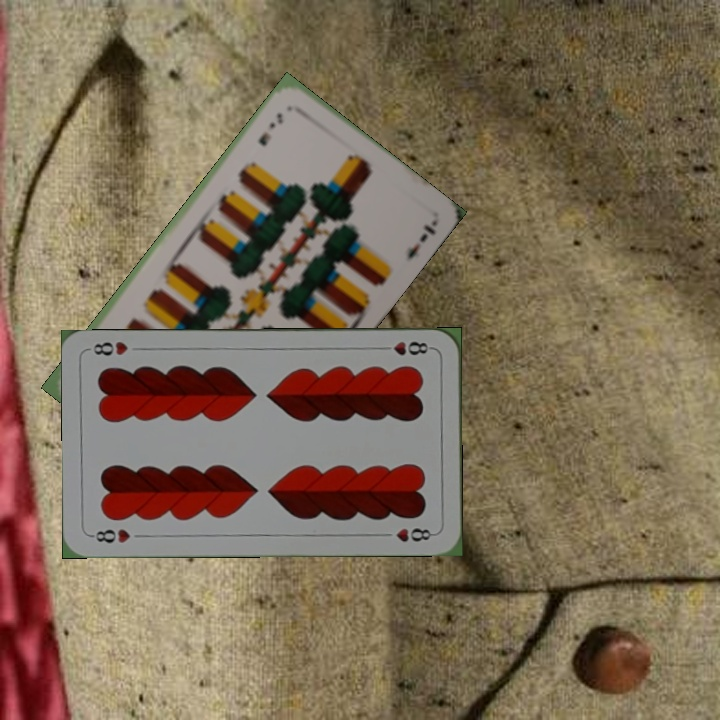E7: (254, 108, 287, 149)
H8: (376, 338, 435, 358), (87, 525, 133, 545)
